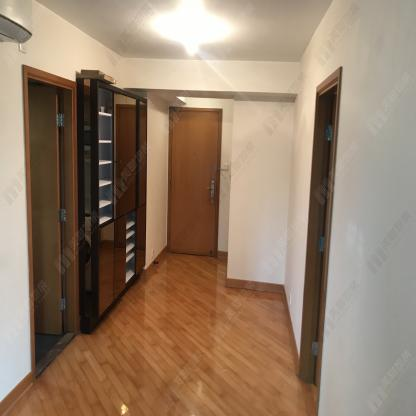Cupboard: (78, 77, 149, 322)
